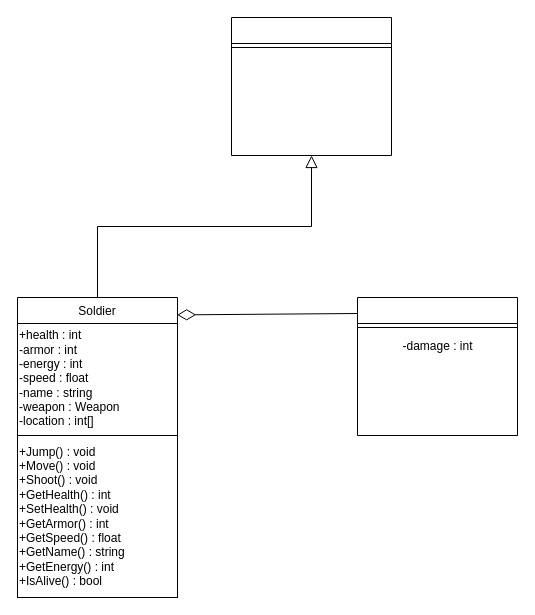
Some shapes in this 535 by 615 pixel diagram are drawn without their labels. Each missing label, with the box of its shape:
Main: (230, 16, 392, 156)
Weapon: (356, 296, 518, 436)
